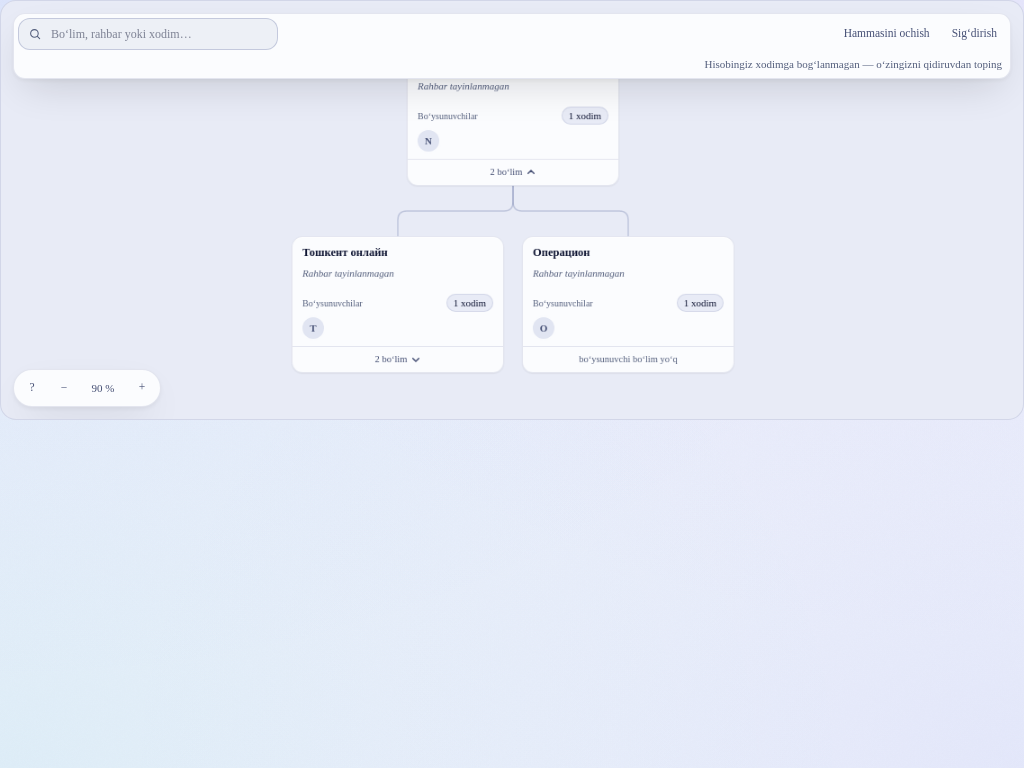
Test: org chart behaviour › says so rather than showing an empty list when nothing matches
The width and height of the screenshot is (1024, 768).
Type "zzzz" into the search field with placeholder "Boʻlim, rahbar yoki xodim…" at {"x": 148, "y": 34}, box [18,18,278,50]
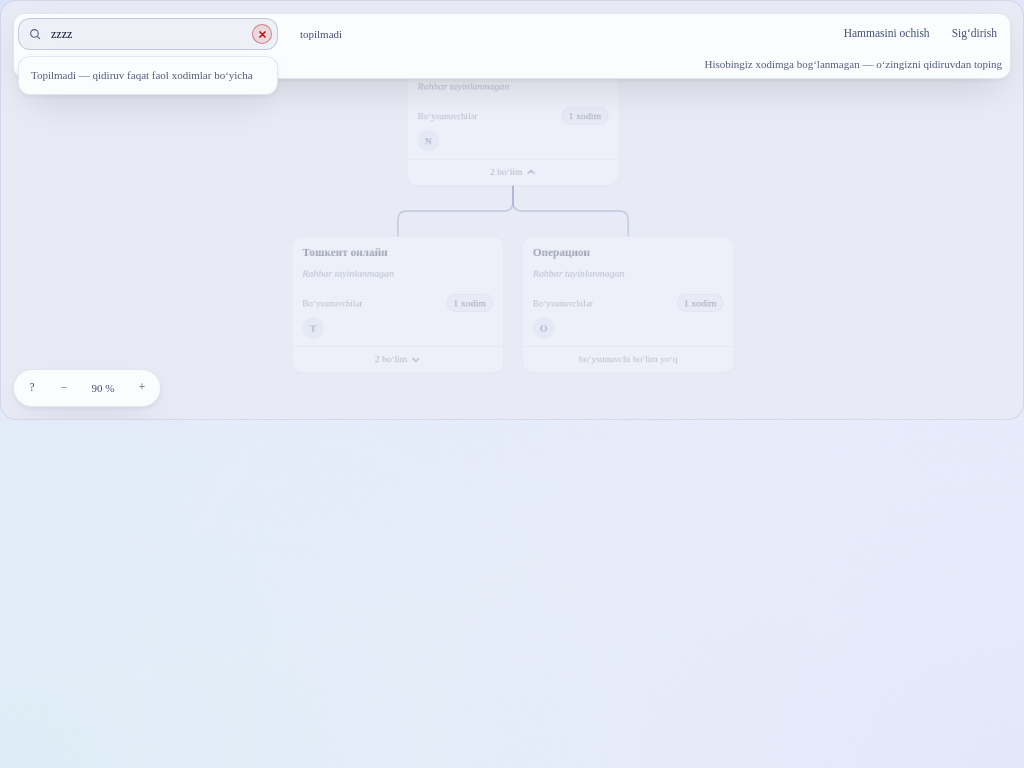
Expected: the text with class "org-hit-empty" shows "Topilmadi", [31,69,253,81]
Expected: the text with class "org-hit-empty" shows "faol xodimlar", [31,69,253,81]
